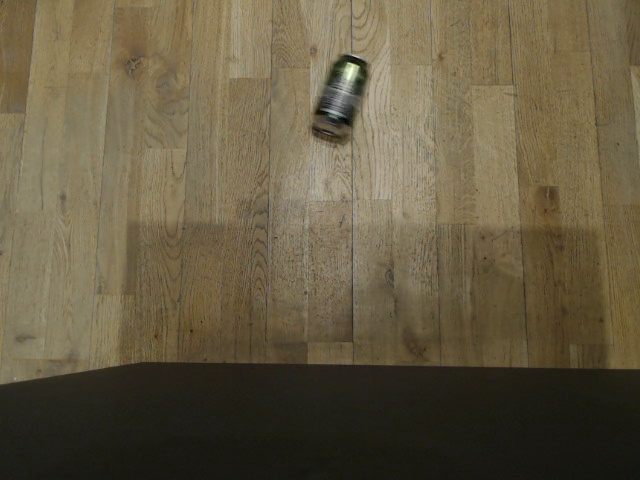beer: (308, 51, 369, 141)
